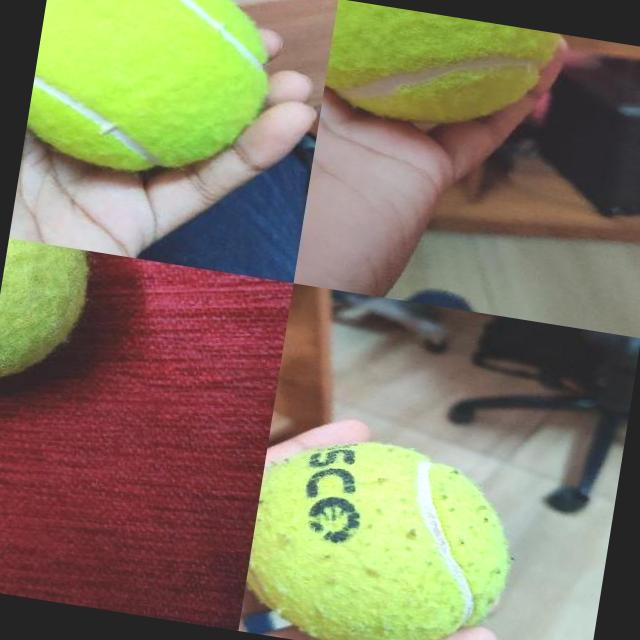tennis-ball: (238, 424, 529, 640), (22, 0, 280, 188), (321, 0, 558, 140)
